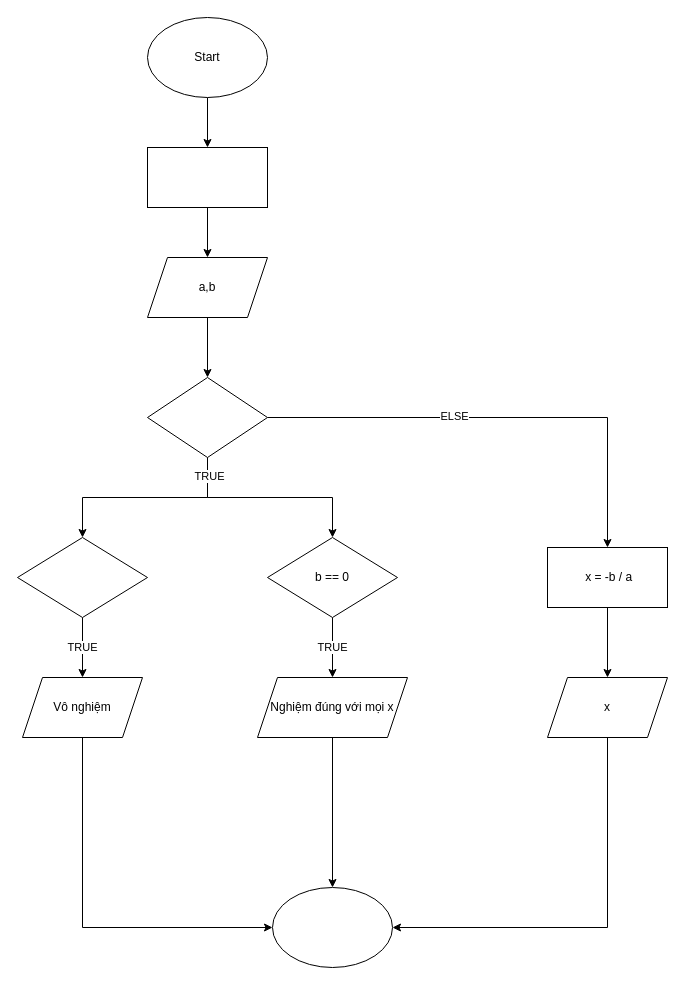
The diagram is 685 pixels wide and 985 high, and some of its shapes have lost their labels. Here are the shapes that lost their labels. From the top down, the box of each, then its label:
(146, 146, 268, 208): a,b,x
(146, 376, 268, 458): a == 0
(16, 536, 148, 618): b != 0
(272, 886, 392, 968): End
